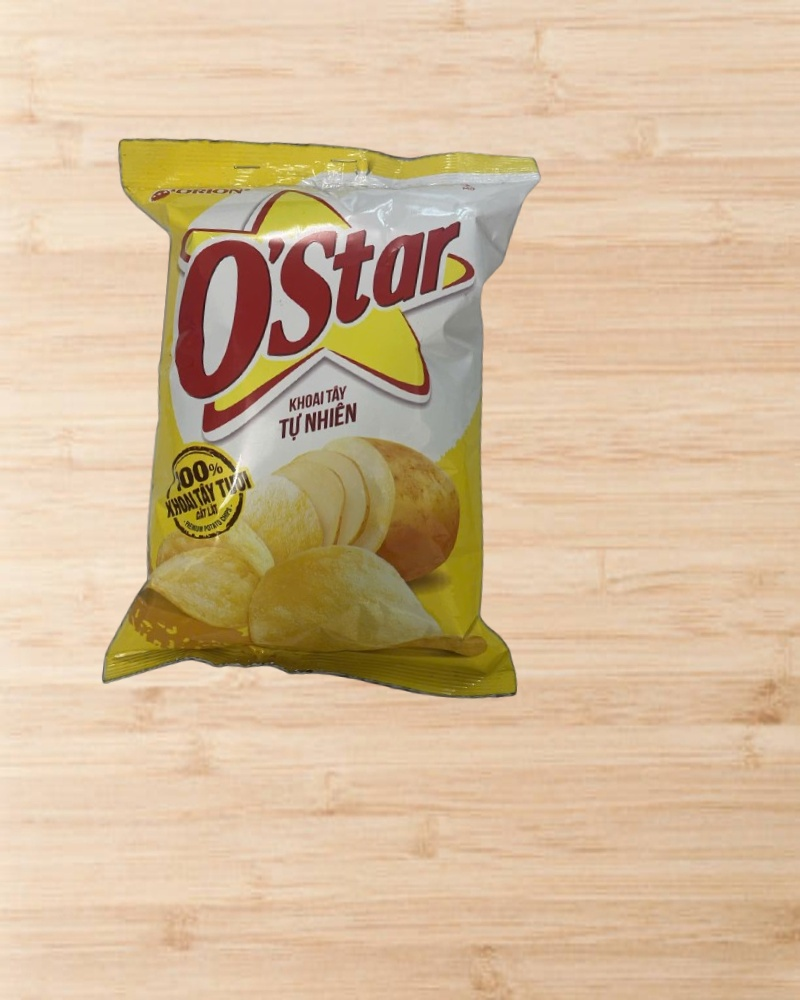O'star: (74, 122, 563, 719)
